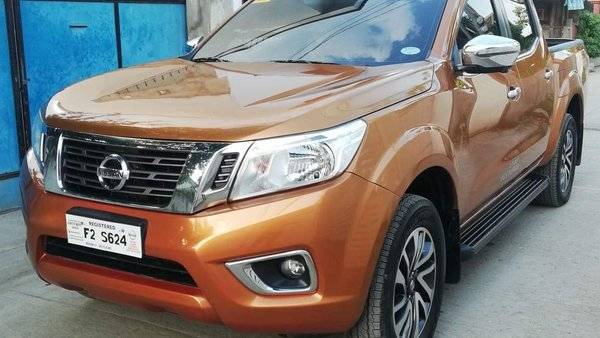car: (23, 1, 589, 338)
